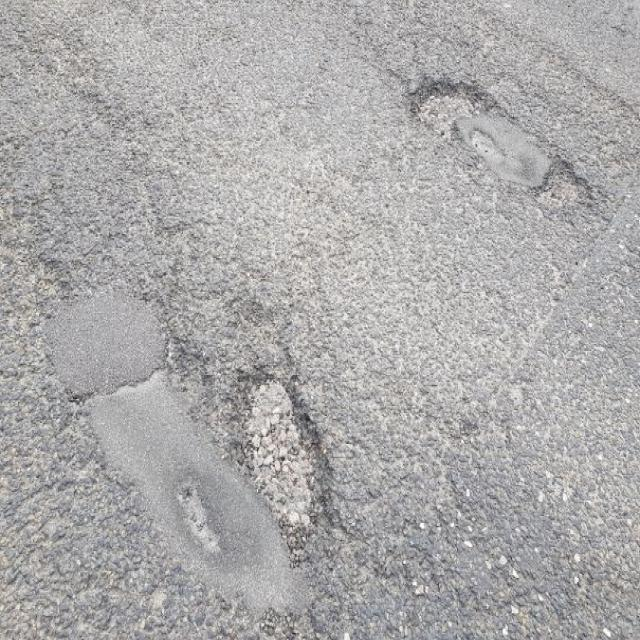pothole: (406, 63, 596, 213), (221, 347, 347, 566)
